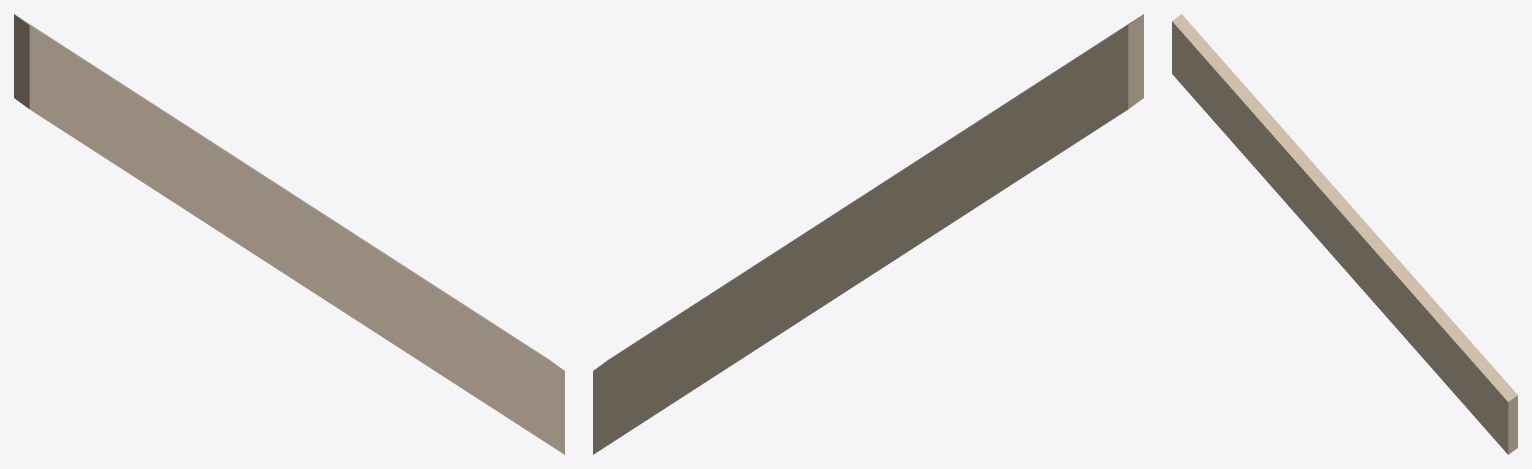
File: Waterwheel_Flume_Support_Brace.glb
3 views of the same model, side by side, from view 1: azimuth 30°, elevation 25°; view 2: azimuth 150°, elevation 25°; view 3: azimuth 330°, elevation 25° (orthographic). The views are drawn at different scales.
Visible parts, largest first — view 1: flume_support_brace; view 2: flume_support_brace; view 3: flume_support_brace.
Boxes of the visible parts, bbox=[...] form: flume_support_brace: bbox=[14, 14, 564, 454]; flume_support_brace: bbox=[593, 14, 1143, 454]; flume_support_brace: bbox=[1172, 14, 1517, 454].
Bounding box in the file's own units: 1 × 1 × 0.05.
